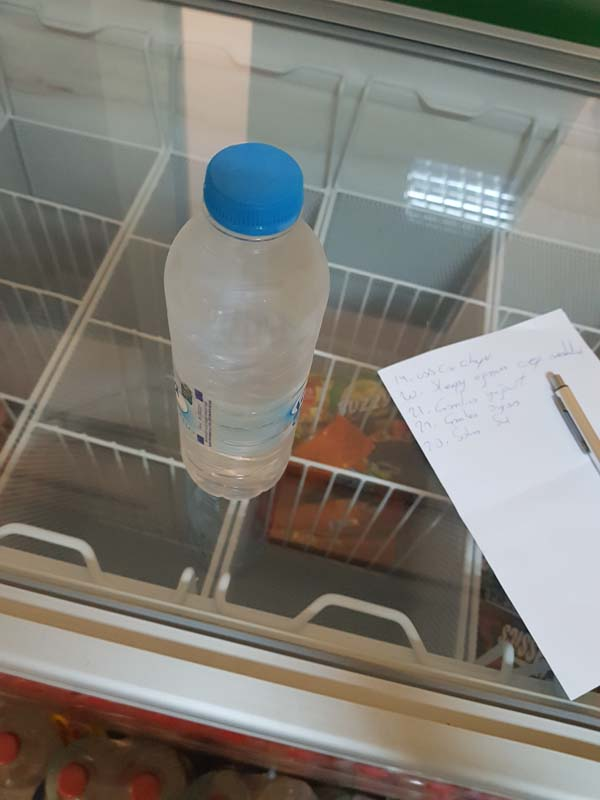saka500mlsu: (161, 133, 334, 508)
